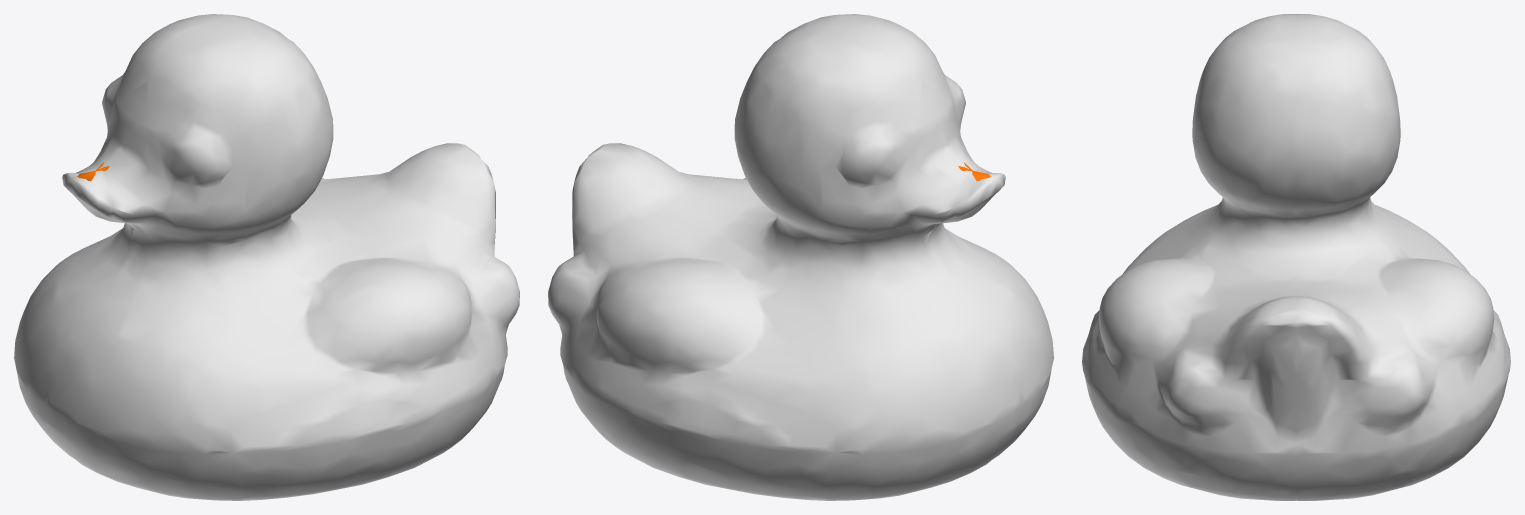
File: bobby.glb
3 views of the same model, side by side, from view 1: azimuth 30°, elevation 25°; view 2: azimuth 150°, elevation 25°; view 3: azimuth 270°, elevation 25° (orthographic). The views are drawn at different scales.
Parts seen in each view (by area): view 1: world; view 2: world; view 3: world.
Part boxes in pixels (left/top/right/bottom): world: left=14, top=14, right=519, bottom=500; world: left=548, top=14, right=1053, bottom=500; world: left=1082, top=14, right=1510, bottom=500.
Size of the model in its own units: 1.94 by 1.75 by 1.77.
1 material, 1 textured.
